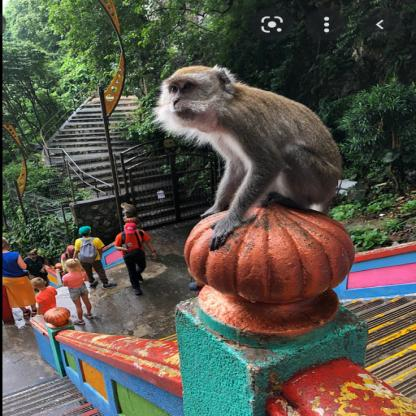monkey: (155, 64, 345, 250)
